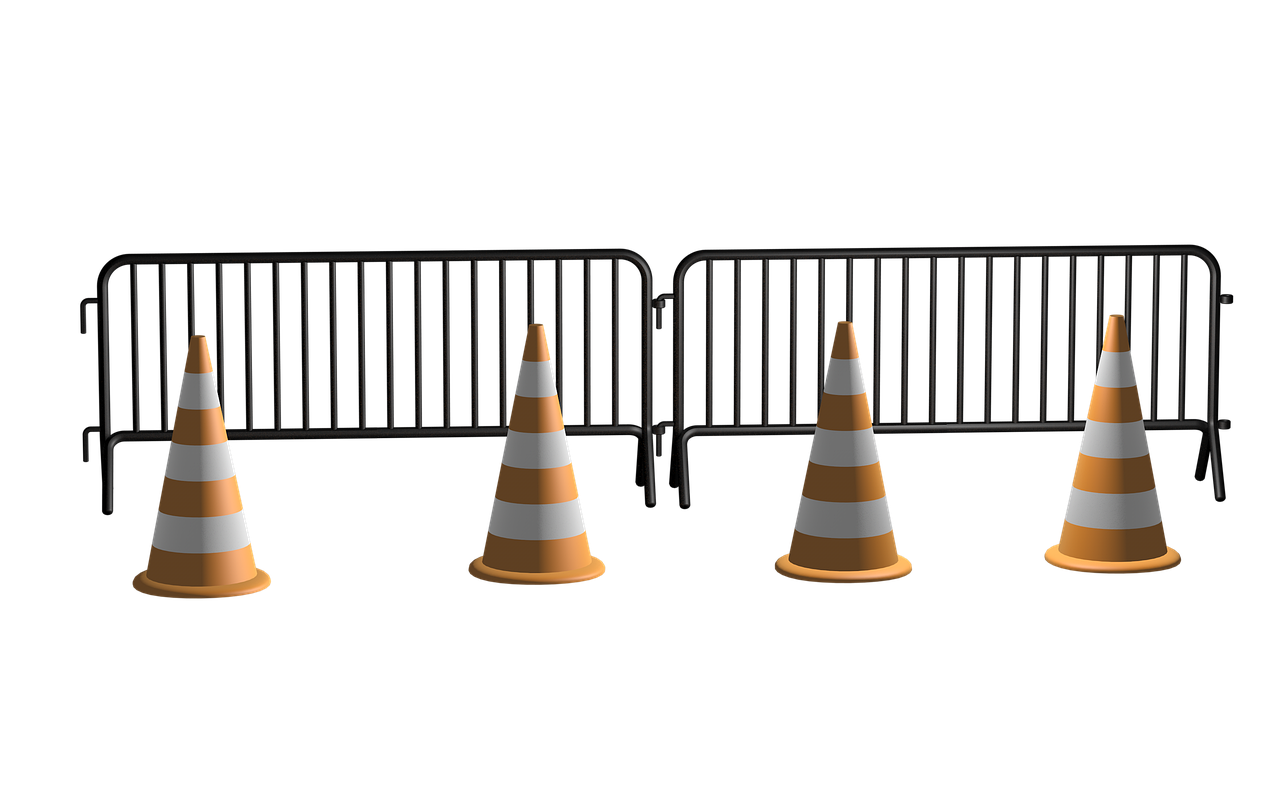traffic_cone: (772, 317, 914, 585), (131, 332, 272, 600), (466, 321, 606, 585), (1042, 311, 1182, 574)
